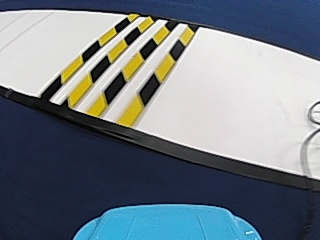bump: (45, 21, 185, 101)
